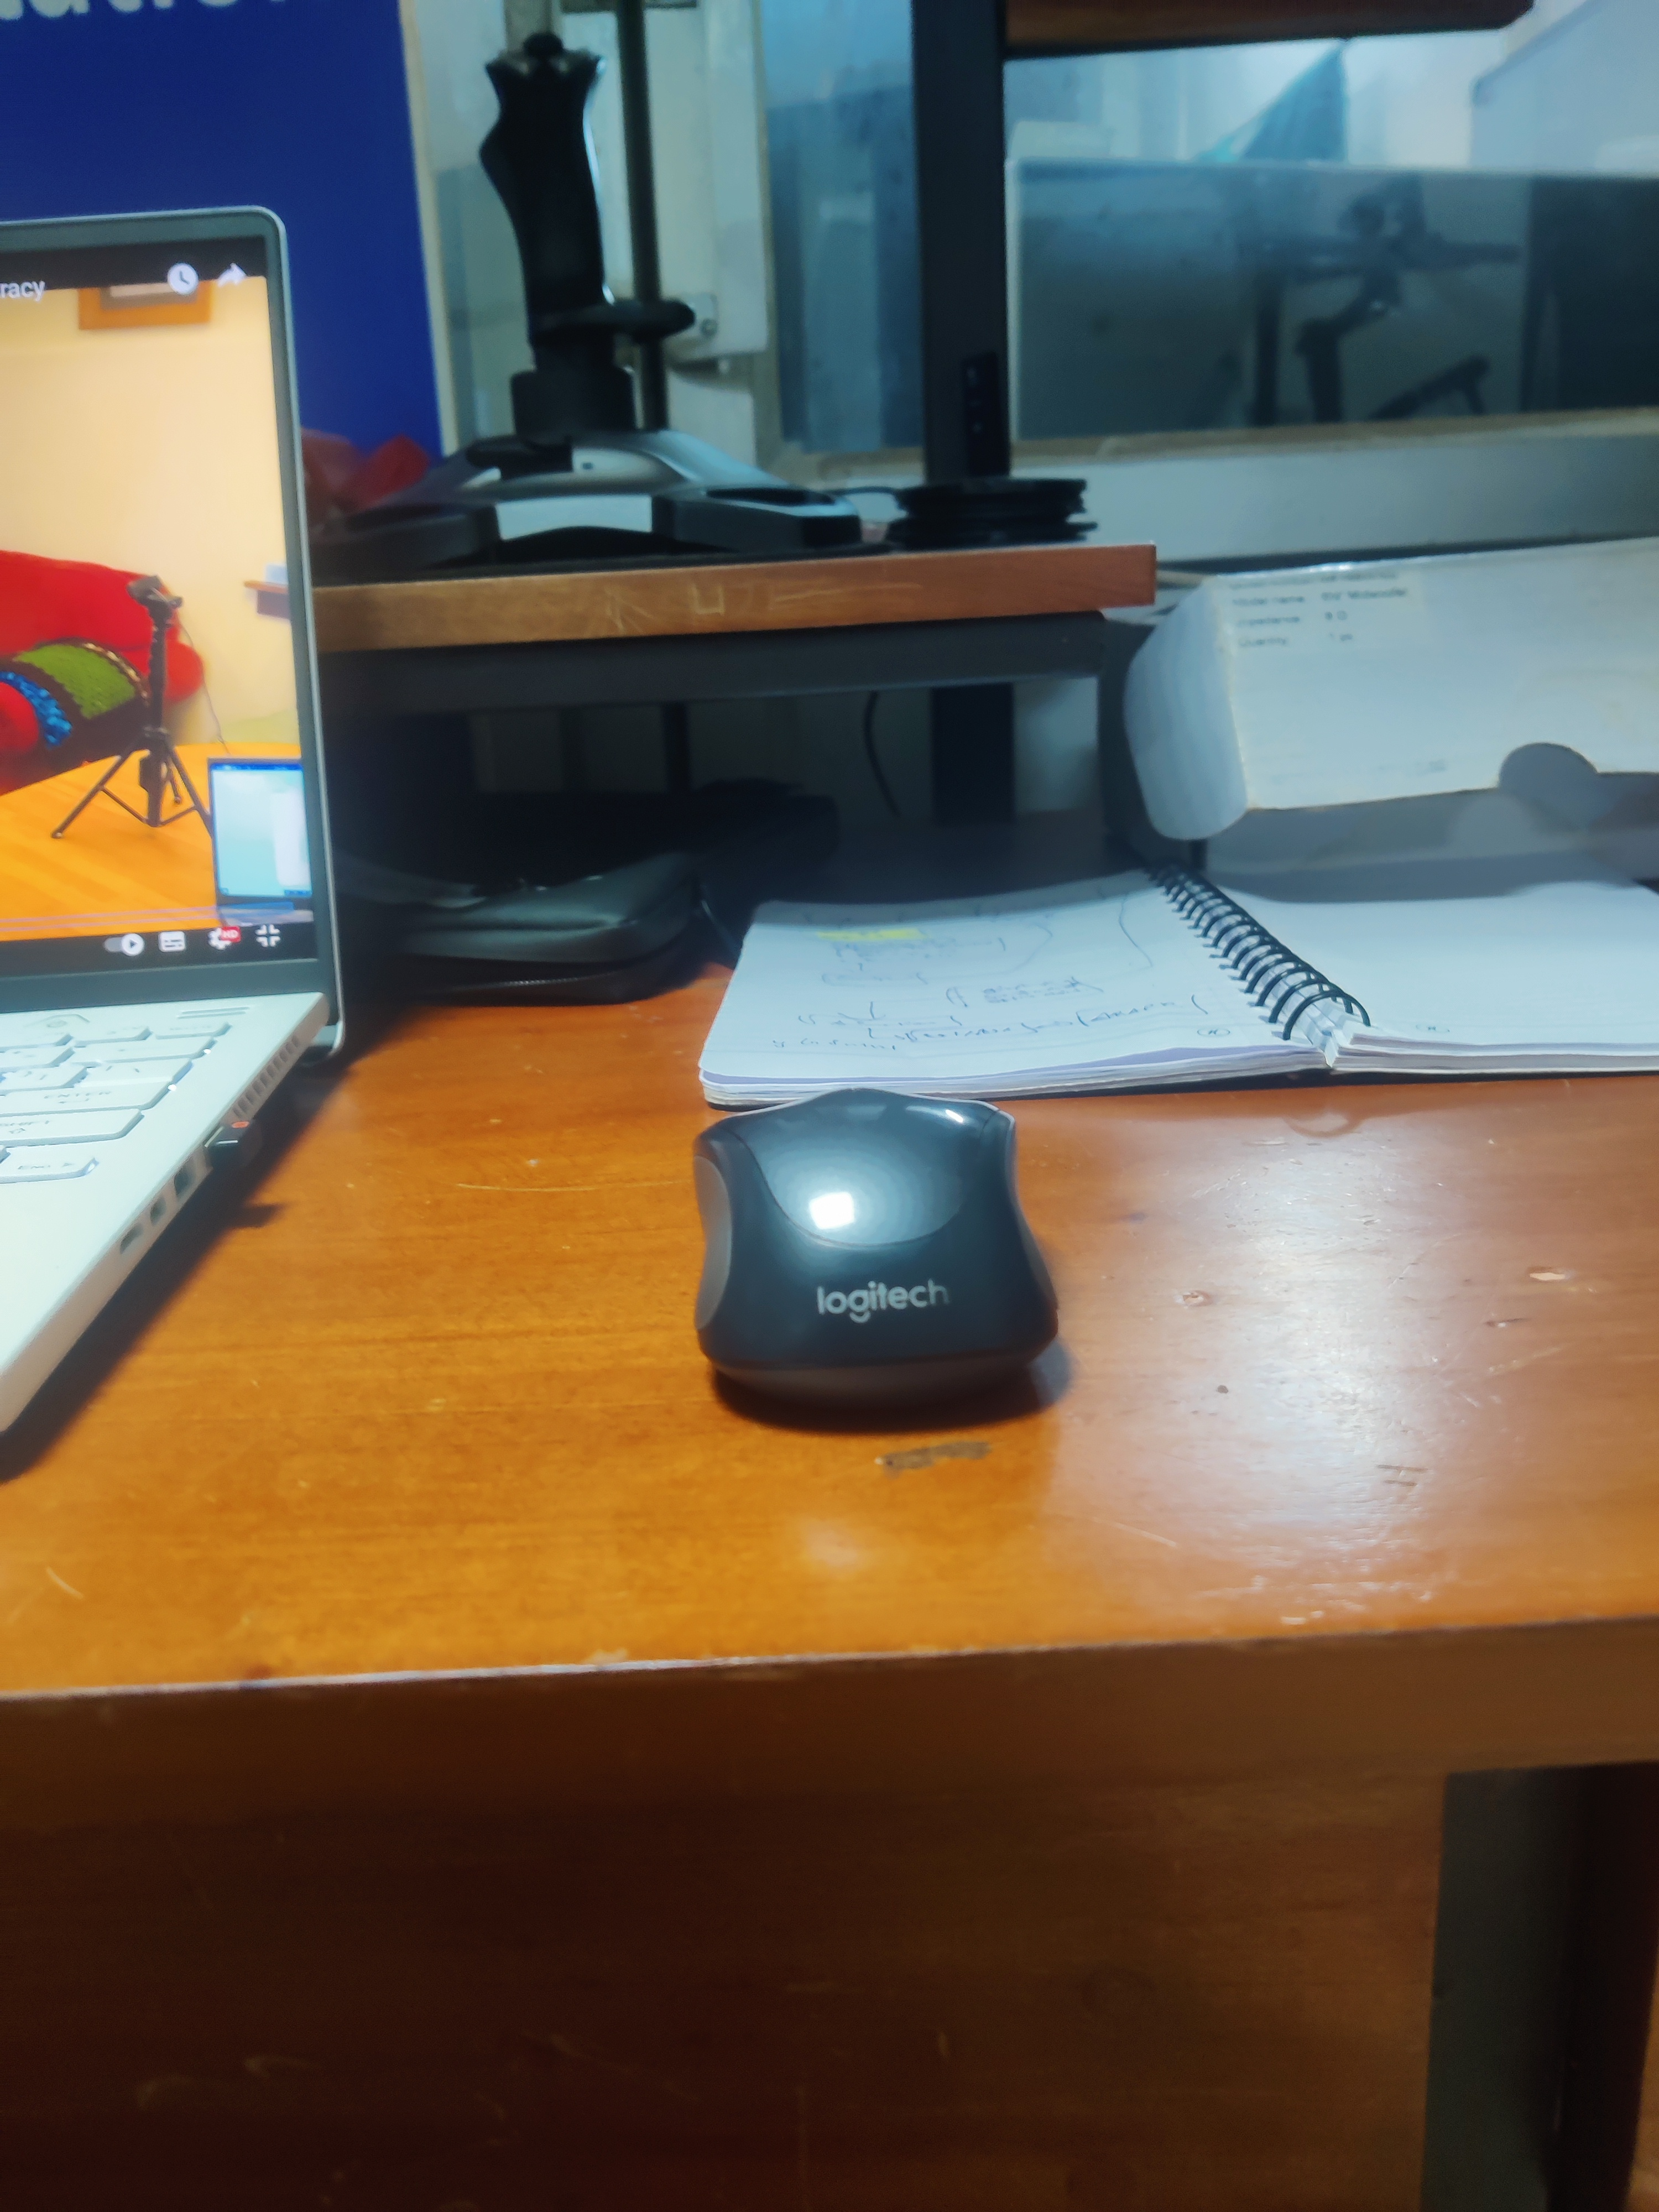logitechMouse: (678, 1087, 1068, 1432)
